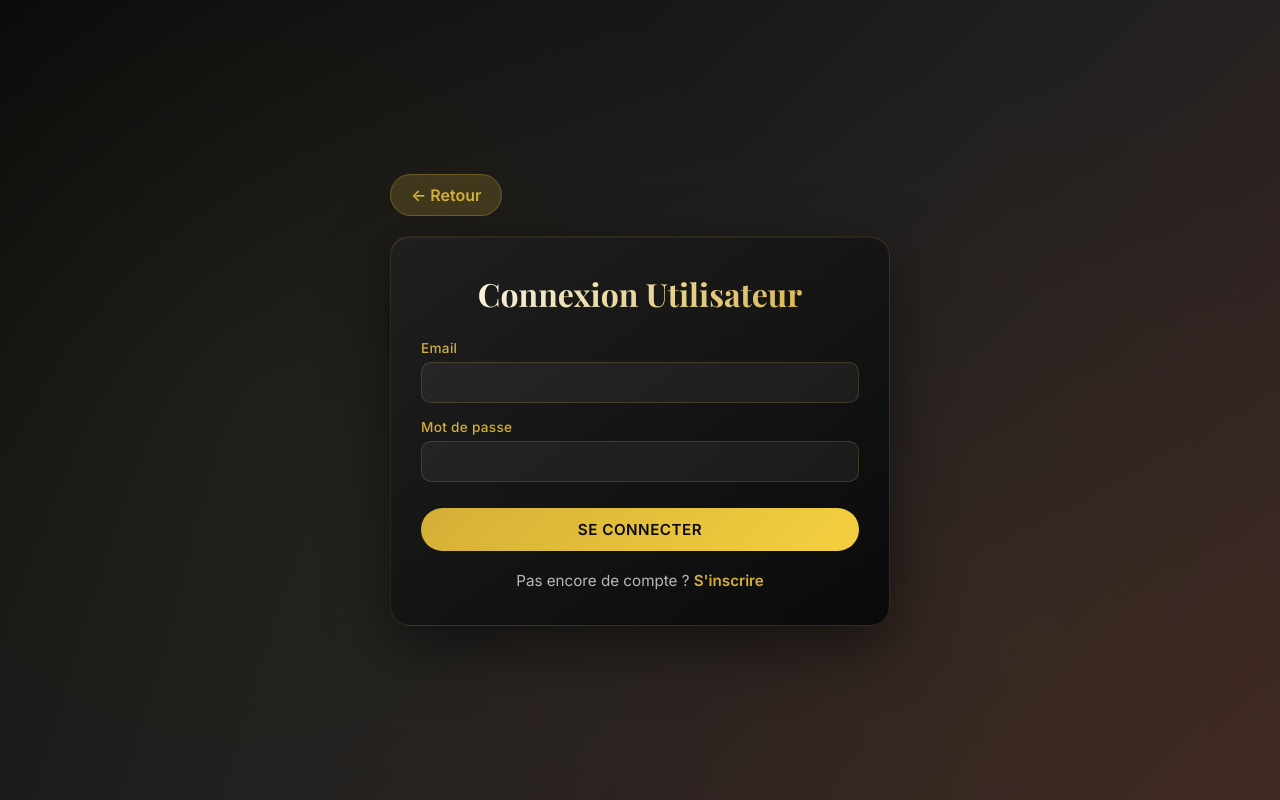
Scenario: UserAuth Component Tests › should toggle between login and register
Expected: the heading "Connexion Utilisateur" is shown, [421,272,859,315]
Switch to register
Click the text "S'inscrire" at (729, 580), box [694,571,764,590]
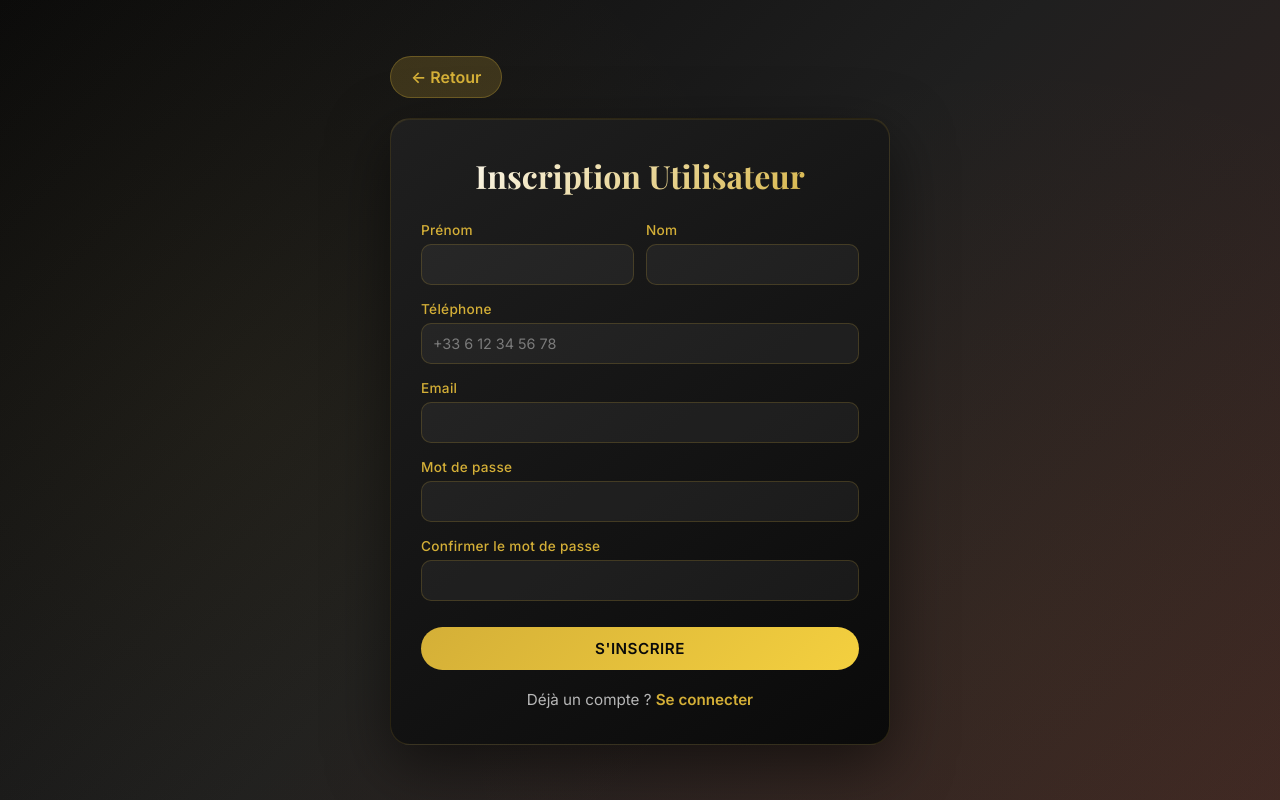
Expected: the heading "Inscription Utilisateur" is shown, [421,154,859,196]
Switch back to login
Click the text "Se connecter" at (704, 699), box [656,690,753,708]
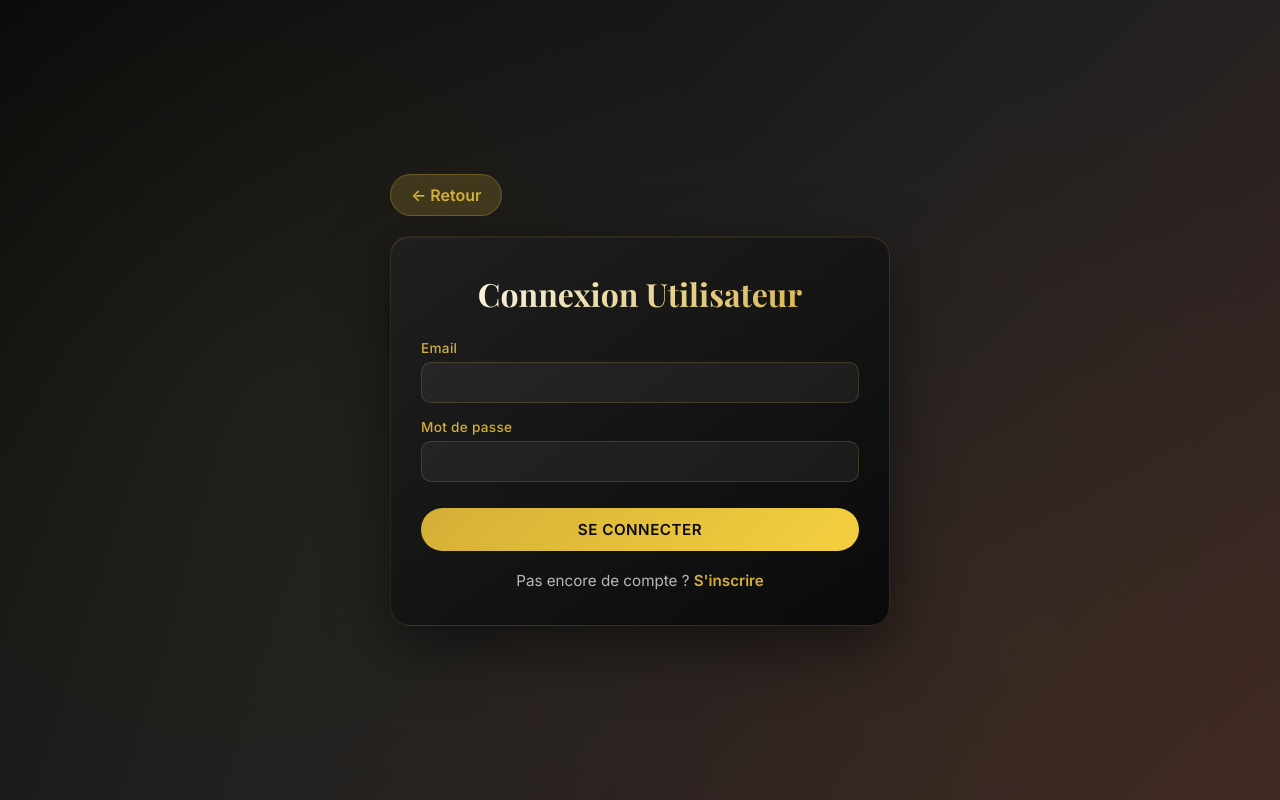
Expected: the heading "Connexion Utilisateur" is shown, [421,272,859,315]
